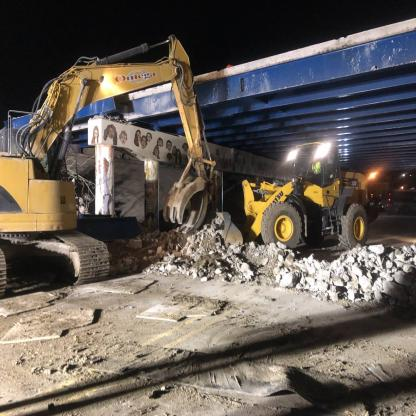bull_dozer/loader/grader: (224, 134, 381, 260)
excavator: (4, 23, 214, 294)
